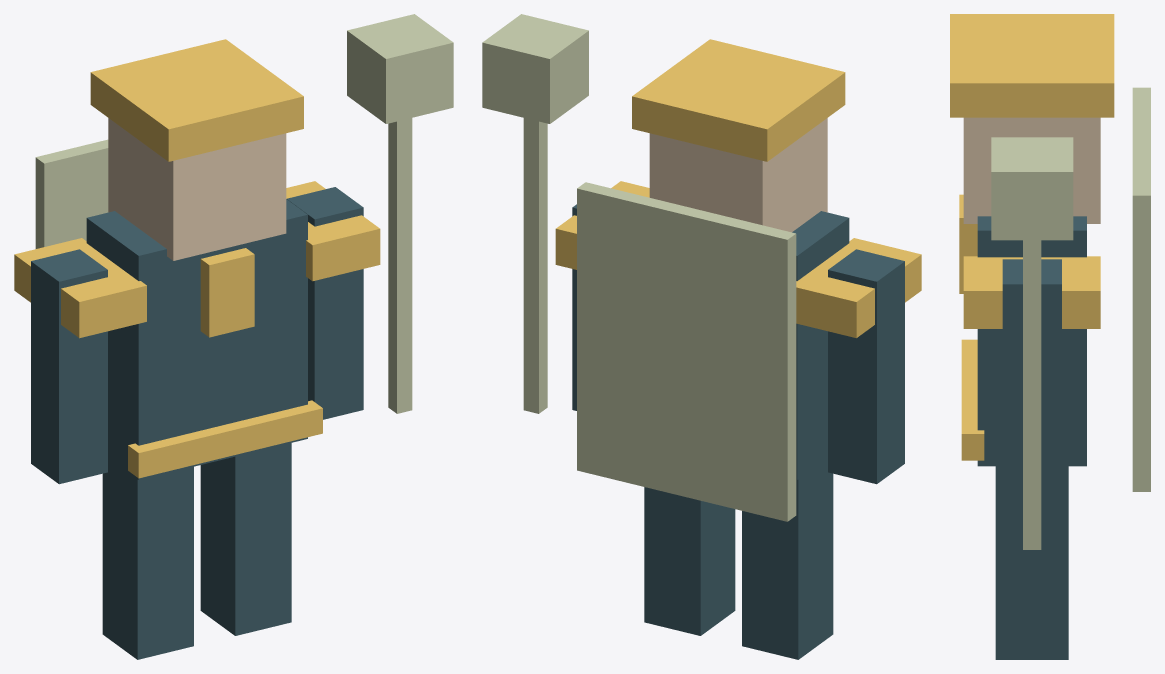
Rendered from 17_maelis_emberkin_captain_near_meditation.glb.
3 views of the same model, side by side, from view 1: azimuth 30°, elevation 25°; view 2: azimuth 150°, elevation 25°; view 3: azimuth 270°, elevation 25° (orthographic). The views are drawn at different scales.
Visible parts, largest first — view 1: Maelis Emberkin, Captain near Meditation; view 2: Maelis Emberkin, Captain near Meditation; view 3: Maelis Emberkin, Captain near Meditation.
Boxes of the visible parts, <box> form: Maelis Emberkin, Captain near Meditation: <box>14,14,453,659</box>; Maelis Emberkin, Captain near Meditation: <box>482,14,921,659</box>; Maelis Emberkin, Captain near Meditation: <box>950,14,1150,659</box>.
Bounding box in the file's own units: 1.05 × 1.41 × 0.4477.
